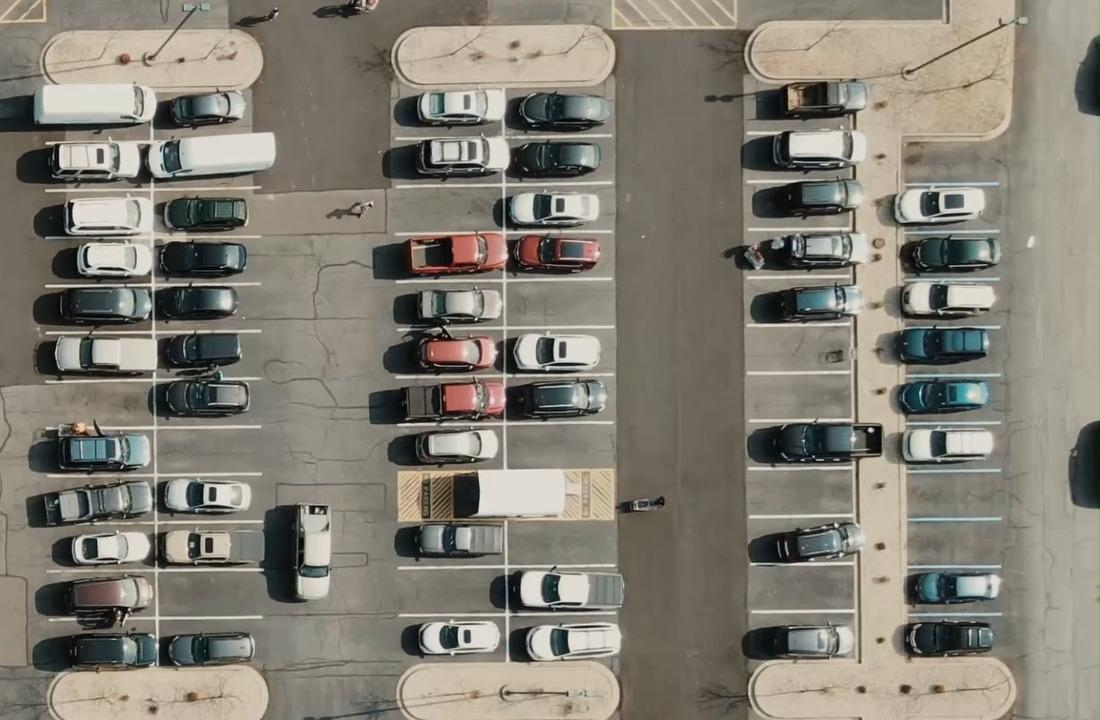car: (144, 131, 276, 180), (746, 419, 883, 465), (41, 419, 151, 473), (32, 82, 157, 126), (42, 479, 152, 526), (747, 520, 864, 563), (509, 568, 624, 610), (404, 231, 508, 276), (399, 379, 505, 422), (509, 621, 622, 661), (741, 621, 854, 660), (149, 377, 250, 418), (413, 133, 503, 179), (771, 128, 867, 171), (46, 139, 142, 182), (510, 378, 607, 420), (515, 90, 610, 132), (492, 191, 599, 228), (291, 502, 331, 600), (899, 280, 998, 319), (506, 139, 601, 179), (57, 285, 152, 325), (401, 619, 500, 657), (892, 185, 986, 225), (510, 233, 600, 274), (905, 234, 1001, 272), (510, 332, 601, 372), (895, 326, 989, 364), (415, 87, 504, 127), (157, 239, 247, 278), (159, 477, 251, 515), (413, 331, 498, 372), (778, 177, 863, 218), (897, 377, 989, 414), (415, 285, 502, 324), (904, 619, 993, 657), (781, 79, 867, 118), (901, 427, 993, 463), (412, 522, 504, 558), (776, 283, 863, 321), (160, 195, 247, 232), (413, 428, 499, 465), (153, 283, 239, 320), (62, 196, 142, 235), (69, 529, 152, 566), (168, 89, 246, 128), (913, 570, 1000, 604), (161, 331, 242, 367), (75, 241, 152, 278)
